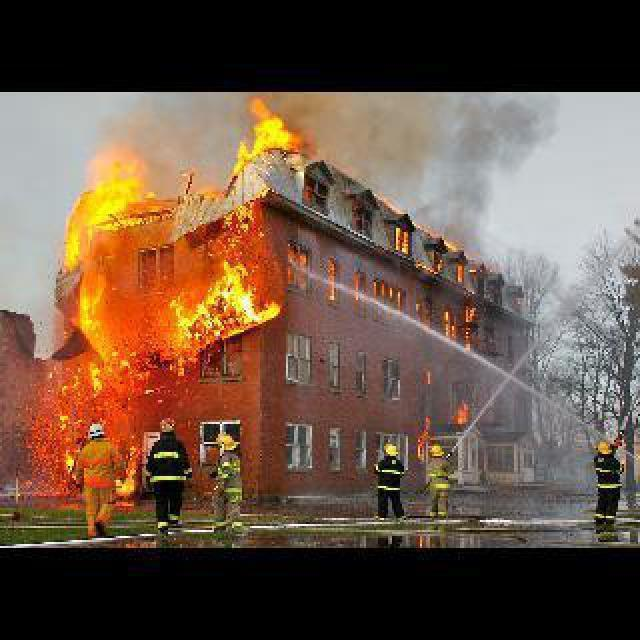Fire: (28, 262, 300, 408), (50, 156, 176, 262), (232, 92, 314, 178), (30, 410, 86, 484), (412, 398, 474, 460), (116, 414, 144, 500), (448, 294, 480, 346), (384, 224, 422, 256), (324, 256, 342, 308), (372, 288, 406, 308)
Smoke: (316, 94, 572, 250)
